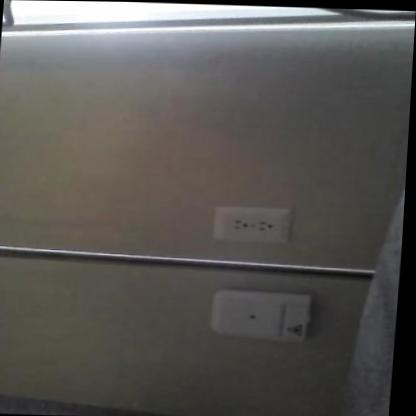OUTLET: (211, 204, 292, 242)
